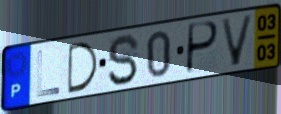0: (145, 29, 174, 79)
D: (67, 40, 101, 96)
L: (35, 48, 61, 99)
P: (184, 20, 220, 77)
S: (106, 33, 141, 88)
V: (218, 13, 256, 69)
